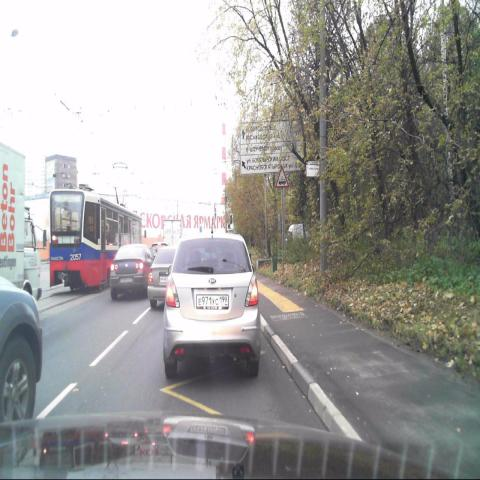1_5: (276, 166, 288, 187)
